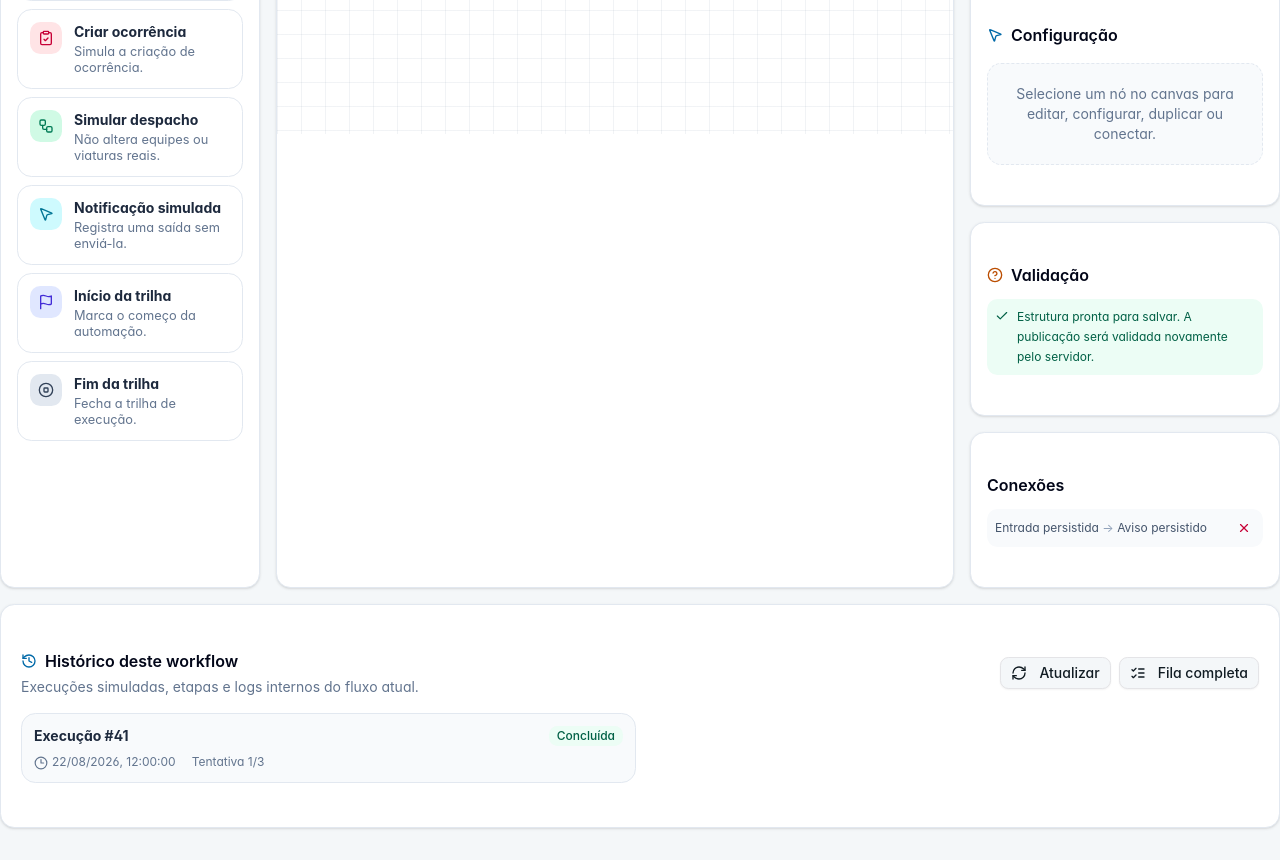
Test: WorkflowBuilderPage com workflow reaberto › oferece falha controlada e abre o histórico detalhado do workflow
(page scrolled)
Check: the heading "Histórico deste workflow" is shown, box [45,649,238,673]
Check: the text "Início da trilha" is shown, box [74,287,171,304]
Click the text "Execução #41" at (81, 736), box [34,726,129,746]
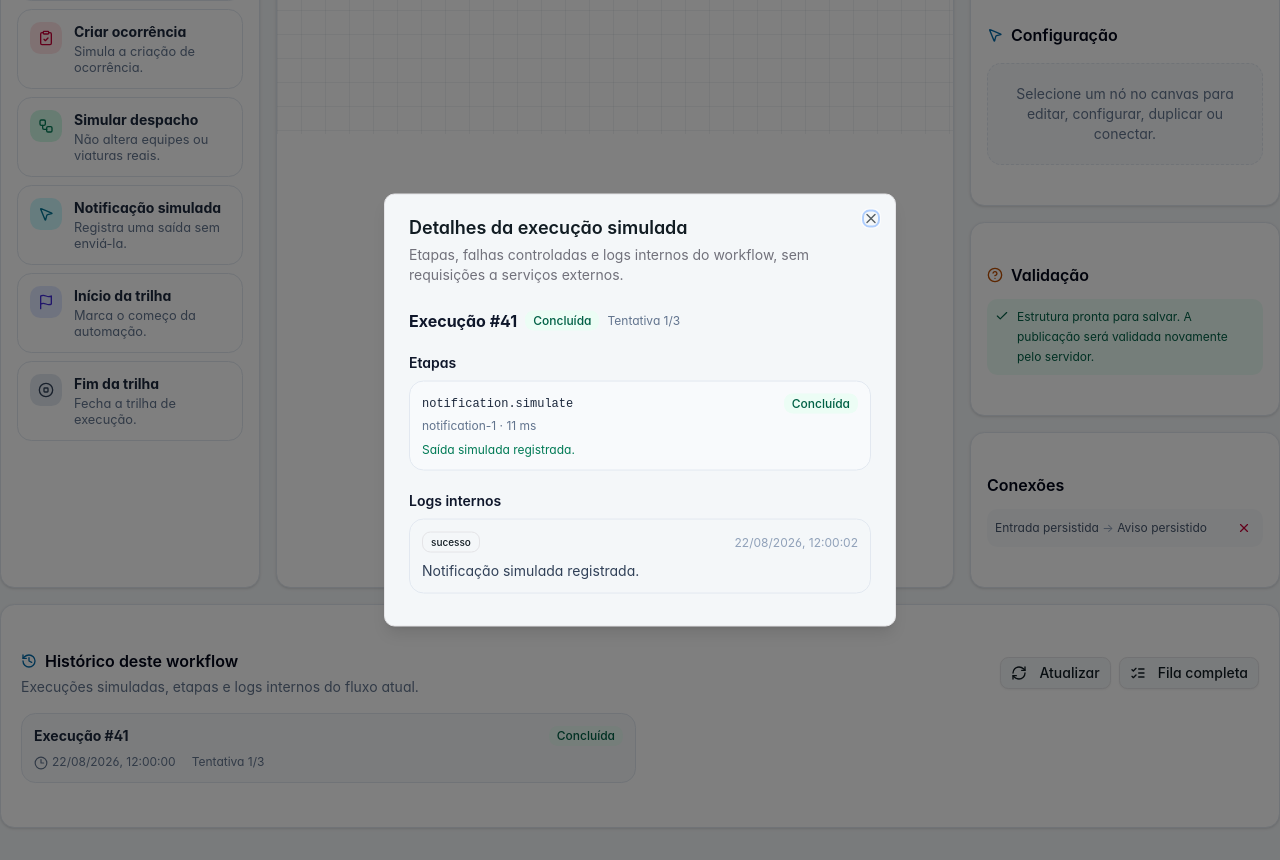
Check: the heading "Detalhes da execução simulada" is shown, box [409,216,688,238]
Check: the text "Notificação simulada registrada." is shown, box [422,562,639,578]
